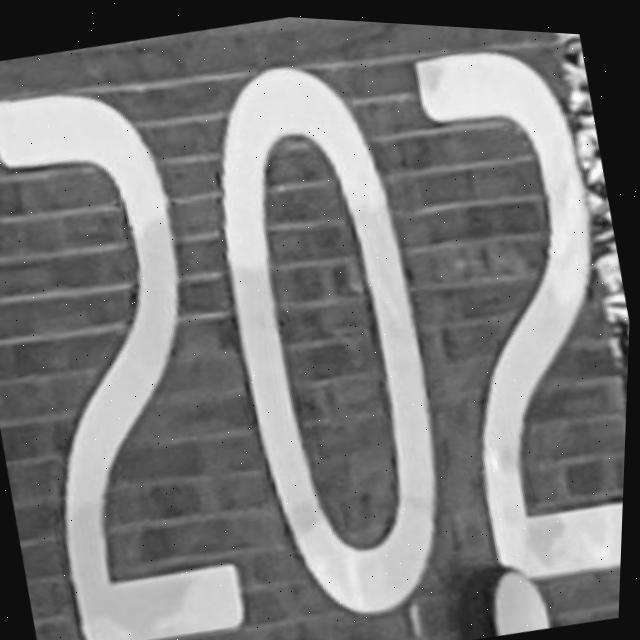character: (164, 38, 494, 640), (0, 61, 283, 640), (382, 24, 640, 602)
